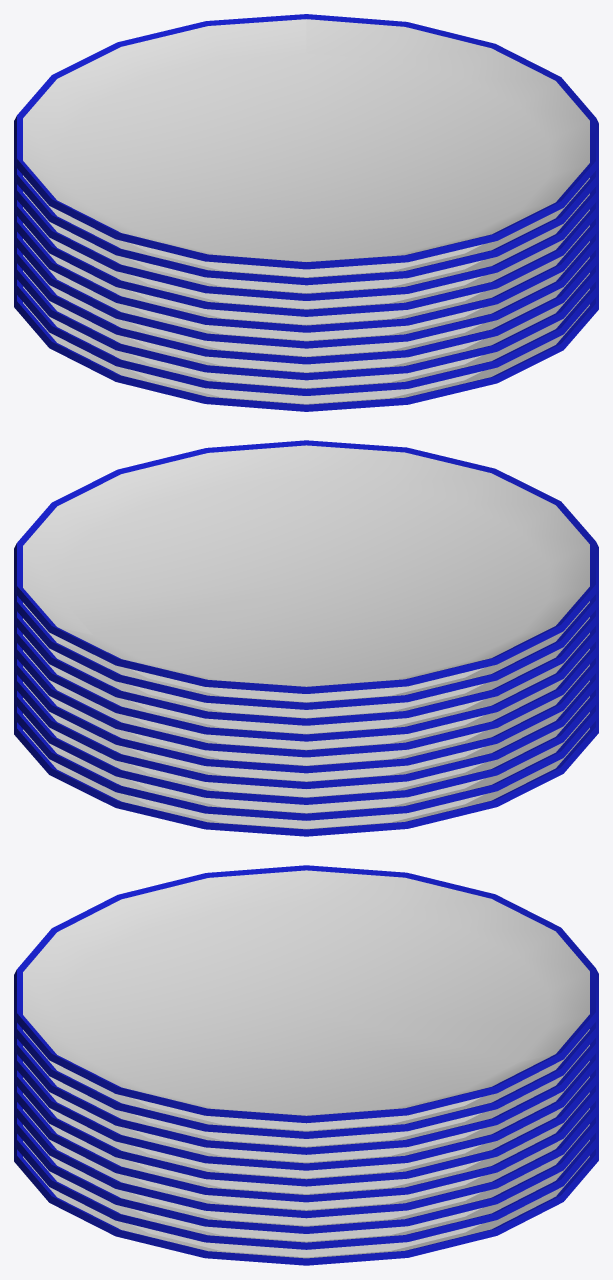
Rendered from Dish_V1_10PC.fbx.
The picture shows the model from 3 angles, top to bottom: view 1: azimuth 30°, elevation 25°; view 2: azimuth 150°, elevation 25°; view 3: azimuth 270°, elevation 25°; orthographic projection.
Parts seen in each view (by area): view 1: Dish_V1_10Pile; view 2: Dish_V1_10Pile; view 3: Dish_V1_10Pile.
Boxes of the visible parts, left/top/right/bottom form: Dish_V1_10Pile: left=14, top=14, right=598, bottom=411; Dish_V1_10Pile: left=14, top=440, right=598, bottom=836; Dish_V1_10Pile: left=14, top=865, right=598, bottom=1265.
Size of the model in its own units: 44.9 by 14.21 by 44.22.
